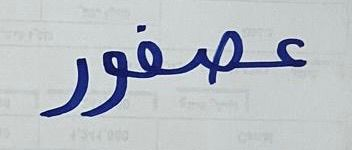ain: (257, 29, 315, 76)
qaf: (131, 19, 177, 87)
reh: (36, 46, 90, 119)
sad: (179, 23, 254, 88)
waw: (91, 45, 129, 120)
